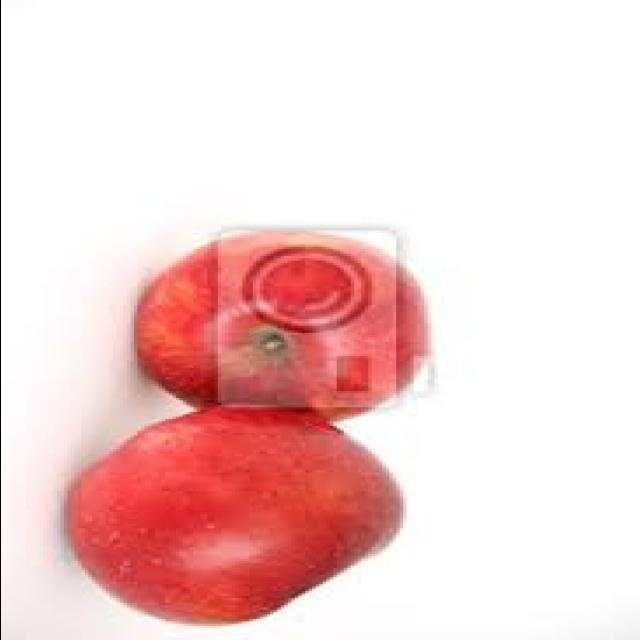agrume: (72, 388, 431, 637), (95, 219, 453, 445)
